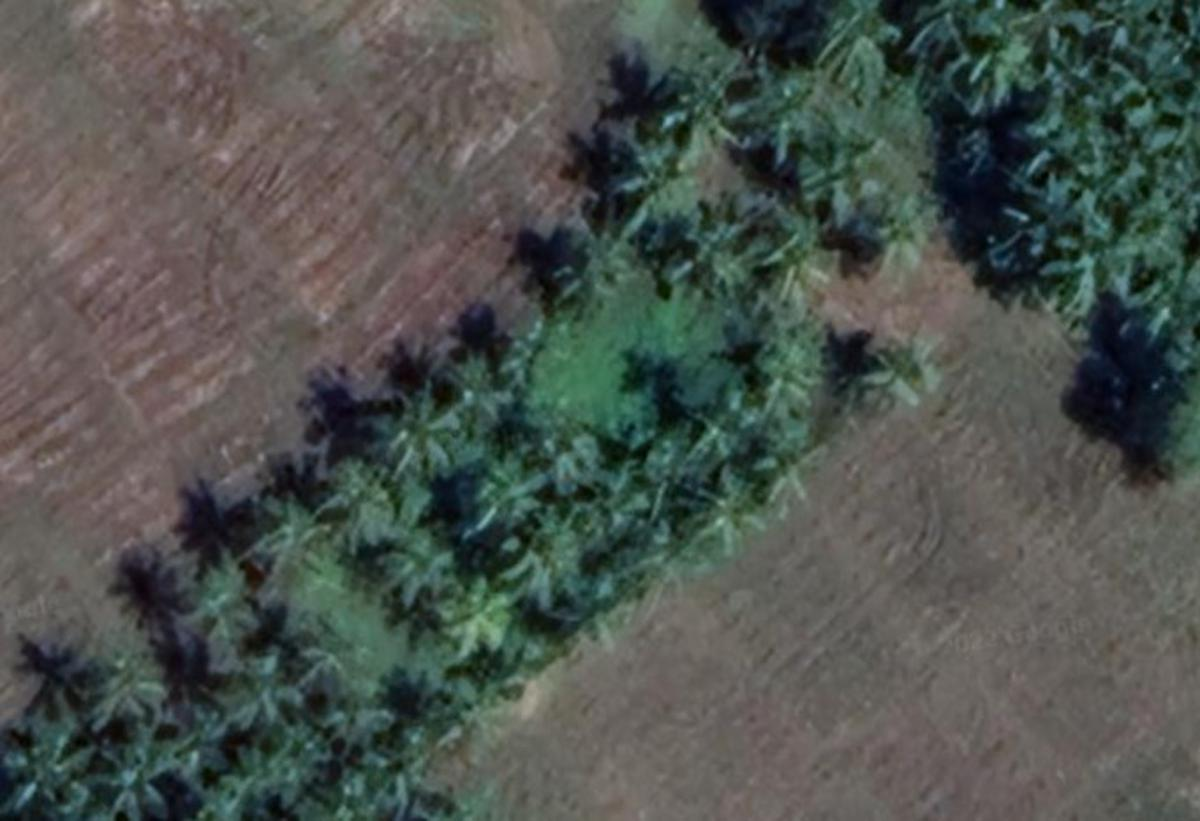coconut: (378, 392, 482, 489), (1, 722, 100, 821), (253, 488, 340, 581), (789, 128, 877, 216), (736, 68, 810, 162), (741, 336, 829, 414), (606, 149, 694, 225), (659, 72, 754, 140), (874, 340, 965, 410), (428, 574, 519, 644), (82, 646, 170, 718), (93, 750, 181, 821), (683, 482, 766, 556), (179, 572, 259, 646), (542, 229, 623, 299), (810, 1, 884, 77), (759, 438, 837, 510), (491, 332, 576, 398), (768, 234, 840, 310), (377, 533, 452, 604), (907, 1, 988, 61), (532, 426, 604, 491), (863, 193, 926, 262), (288, 632, 355, 694)
